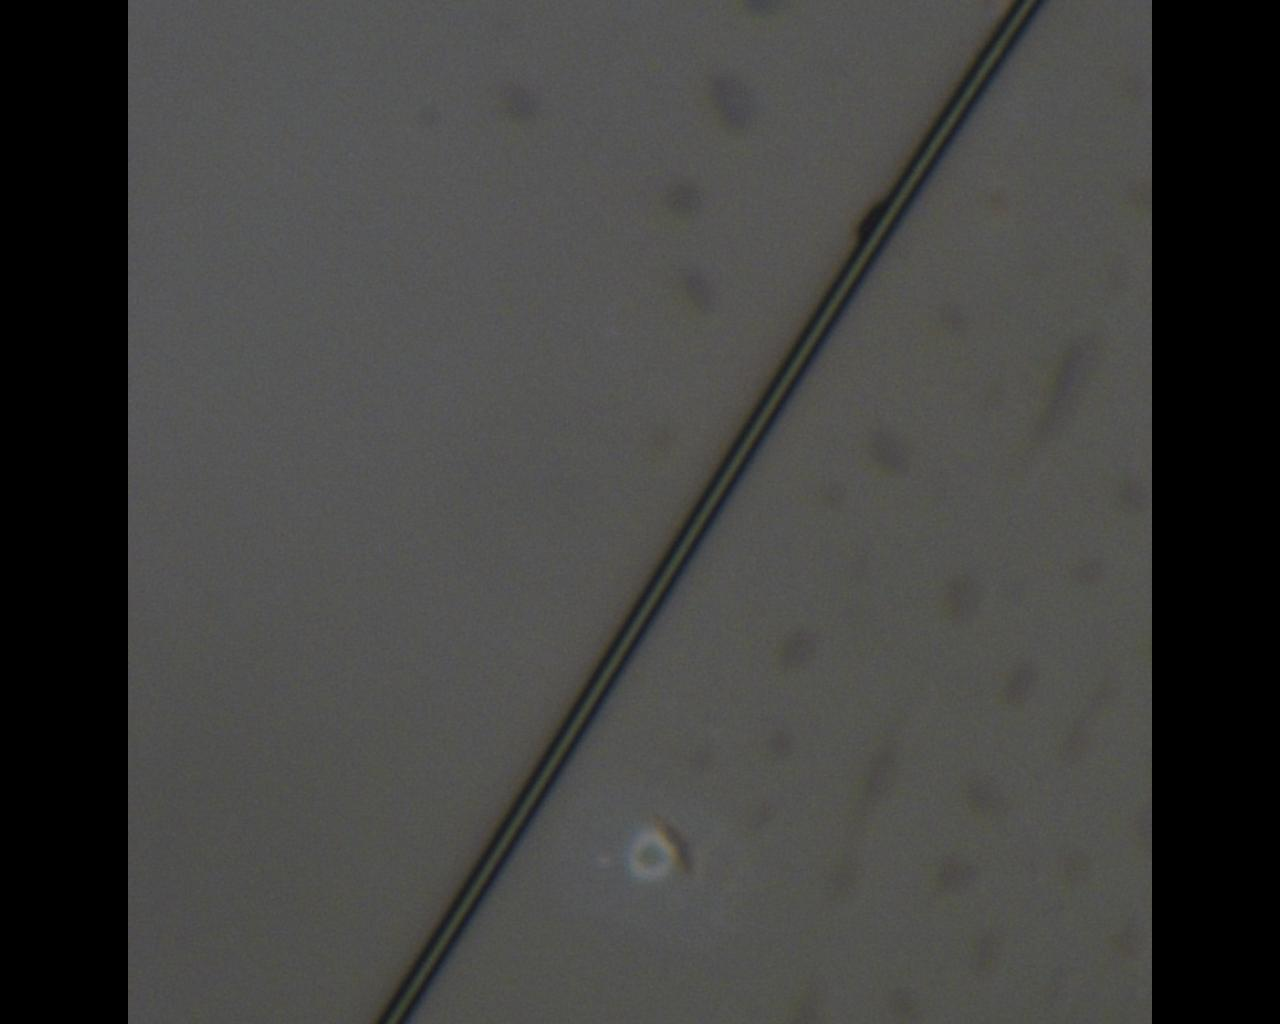fiber: (0, 3, 530, 290), (689, 0, 1280, 197), (614, 943, 1270, 1024), (46, 722, 614, 740)
